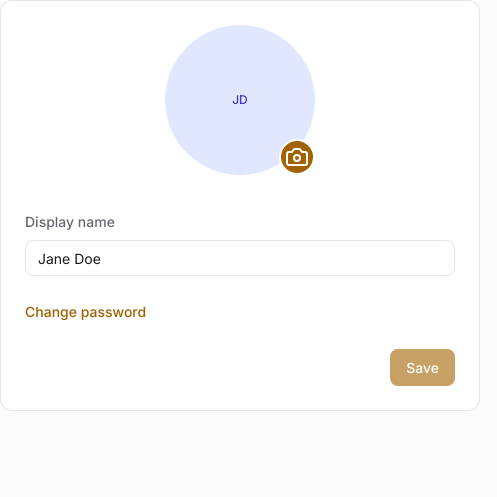
Test case: ProfileForm save outcomes › should show the success banner after a successful save
Replace the text in the field labelled "Display name" with "Jane Smith" at x=240, y=258, box [25, 240, 455, 276]
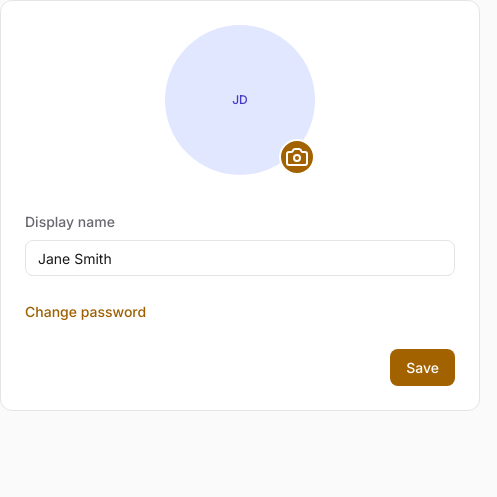
Click the button "Save" at x=423, y=367, box [390, 348, 455, 386]
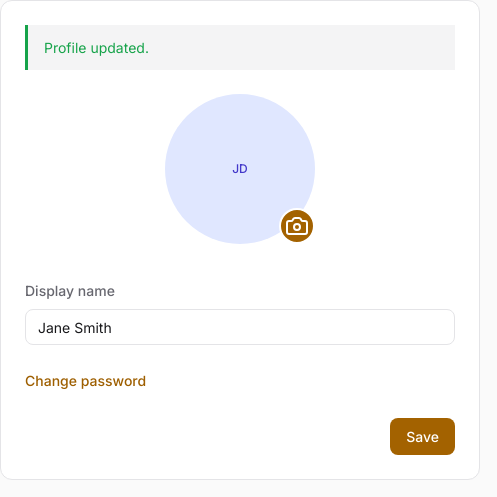
Now the text "Profile updated." is shown, box [25, 25, 455, 70]
